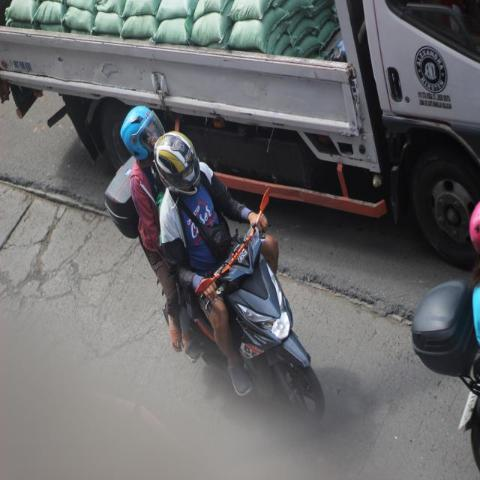motorcycle: (104, 104, 328, 428)
truck: (1, 0, 480, 200)
